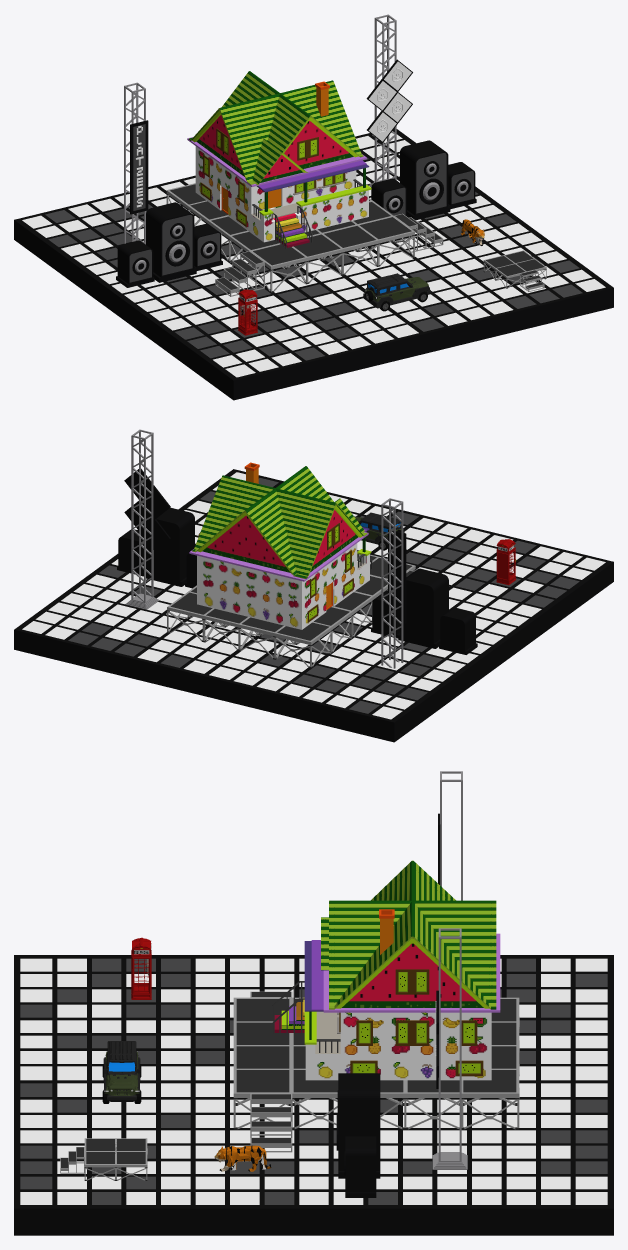
3 renders of one model, top to bottom at view 1: azimuth 30°, elevation 25°; view 2: azimuth 150°, elevation 25°; view 3: azimuth 270°, elevation 25°, orthographic. The views are drawn at different scales.
Visible parts, largest first — view 1: Cube.008, Cube.1063, VEHICLES_JEEP, OBJRANDOM_PHONEBOOTH; view 2: Cube.008, Cube.1063, OBJRANDOM_PHONEBOOTH, VEHICLES_JEEP; view 3: Cube.008, Cube.1063, VEHICLES_JEEP, OBJRANDOM_PHONEBOOTH, ANIMAL_TIGRE.
Part boxes in pixels (x1,y1,x2,y2): Cube.008: (14,14,613,400); Cube.1063: (187,71,371,248); VEHICLES_JEEP: (363,273,430,311); OBJRANDOM_PHONEBOOTH: (238,289,257,335); Cube.008: (14,429,613,742); Cube.1063: (189,462,372,629); OBJRANDOM_PHONEBOOTH: (496,539,516,585); VEHICLES_JEEP: (354,512,404,550); Cube.008: (14,771,613,1235); Cube.1063: (272,860,500,1080); VEHICLES_JEEP: (102,1041,141,1103); OBJRANDOM_PHONEBOOTH: (131,937,151,999); ANIMAL_TIGRE: (214,1145,271,1171).
Bounding box in the file's own units: 4000 × 1972 × 4000.
Materials: 45 (3 with a texture image).
